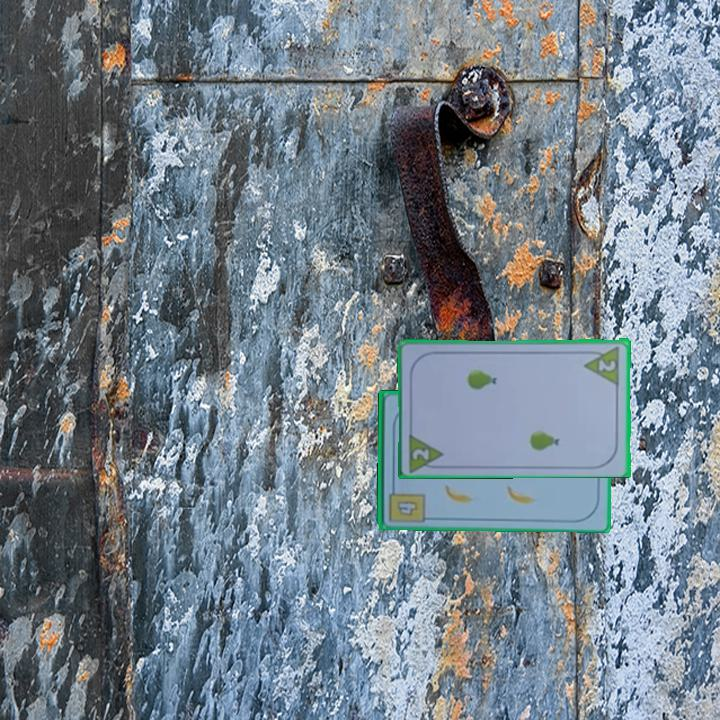2p: (405, 429, 447, 473), (595, 355, 619, 374)
4b: (394, 497, 421, 518)
